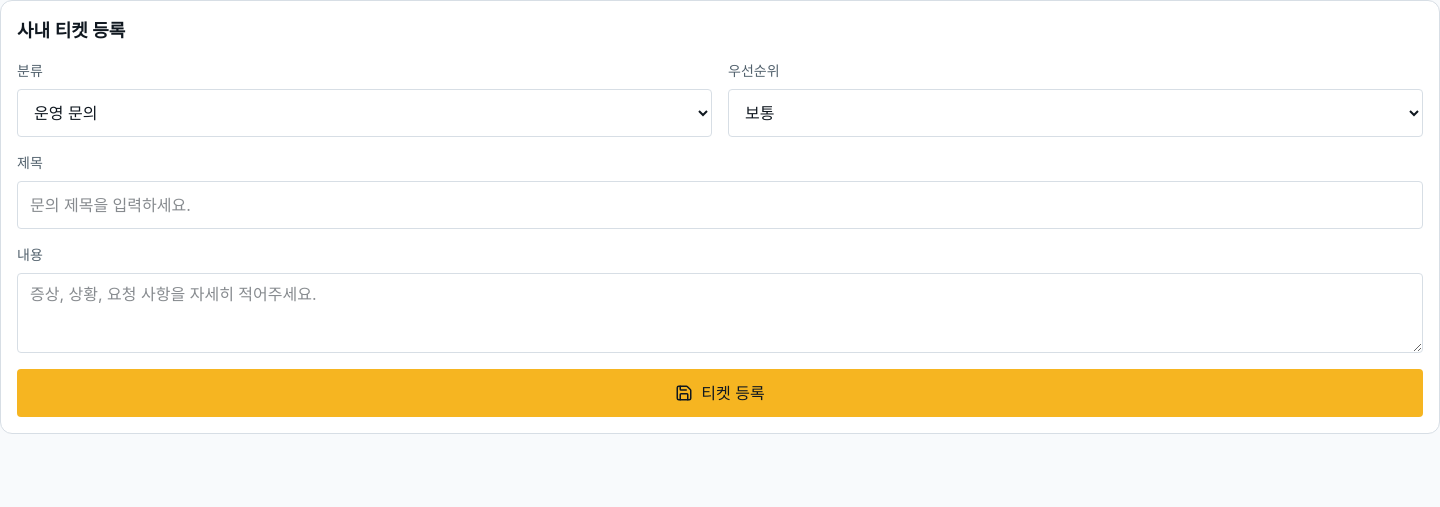
Scenario: CreateTicketForm › validates required fields then submits the typed create request
Click the button "티켓 등록" at (720, 393), box [17, 369, 1423, 417]
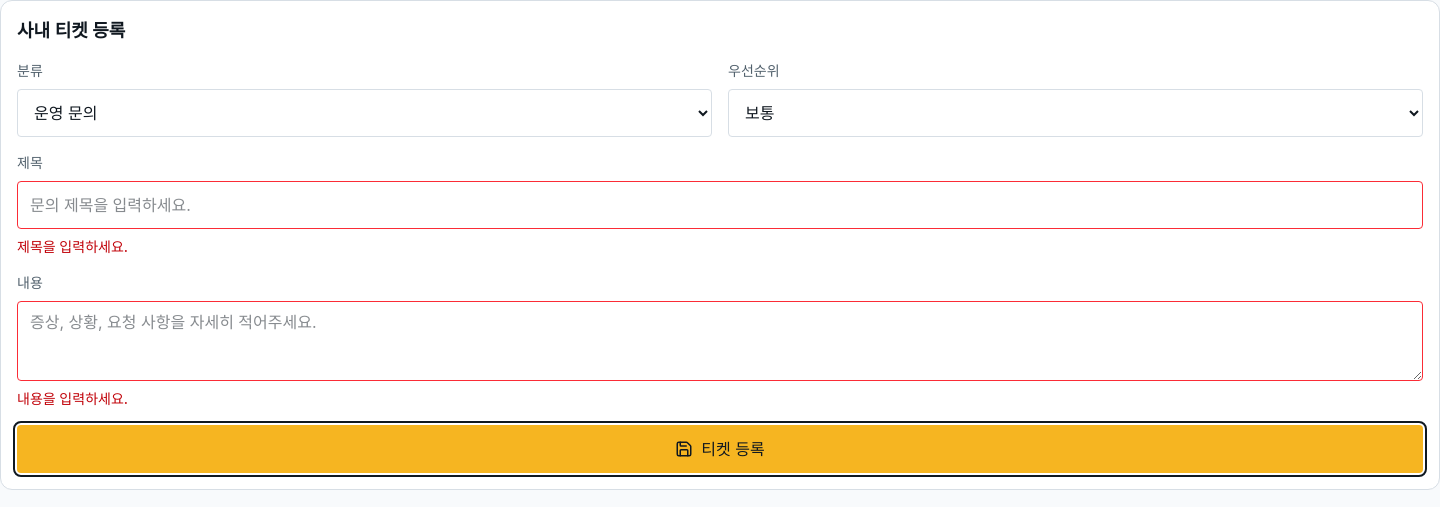
Now the text "제목을 입력하세요." is shown, box [17, 238, 128, 255]
Now the text "내용을 입력하세요." is shown, box [17, 390, 128, 407]
Select "시스템 오류" in the dropdown labelled "분류" at (364, 113), box [17, 89, 712, 137]
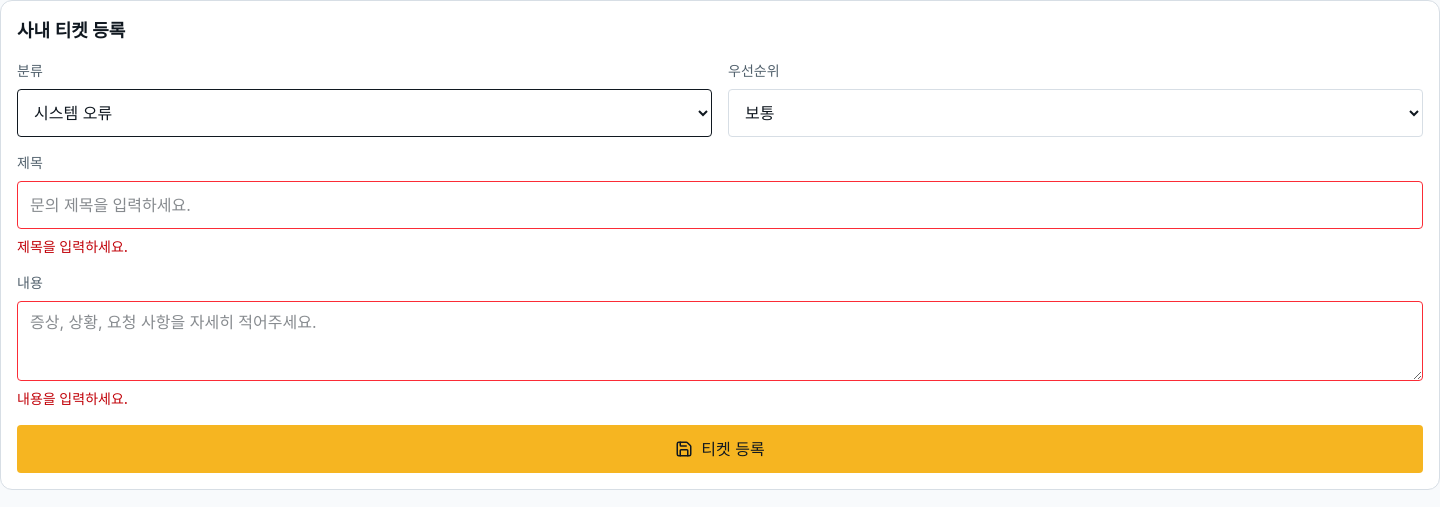
Select "긴급" in the dropdown labelled "우선순위" at (1076, 113), box [728, 89, 1423, 137]
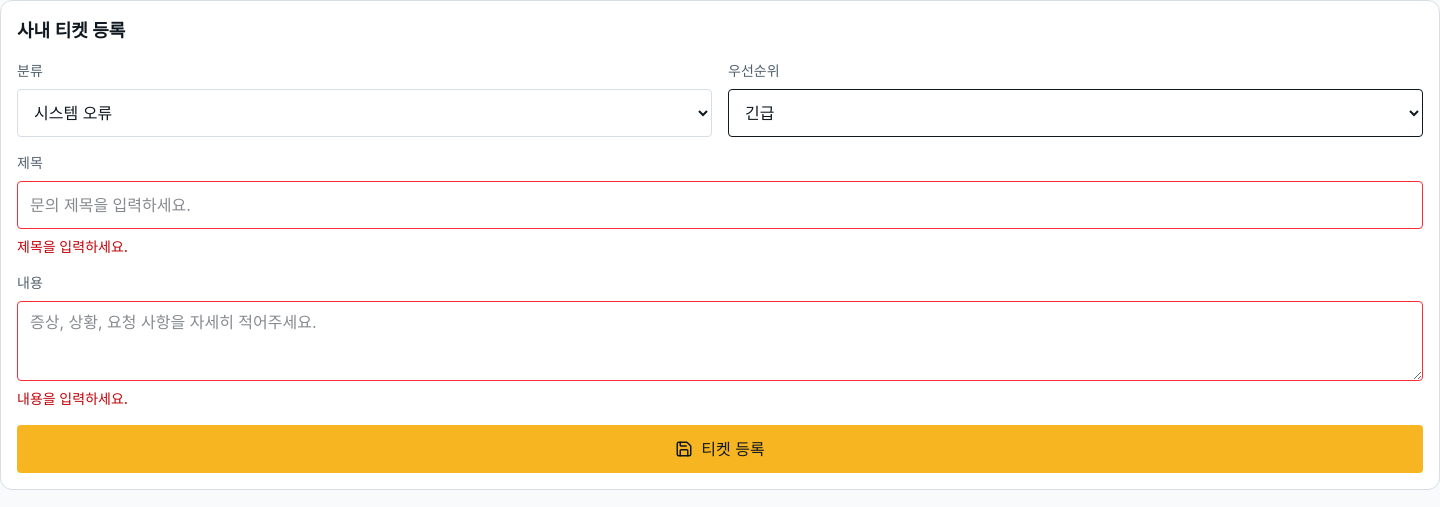
Type "로그인 오류" into the field labelled "제목" at (720, 205), box [17, 181, 1423, 229]
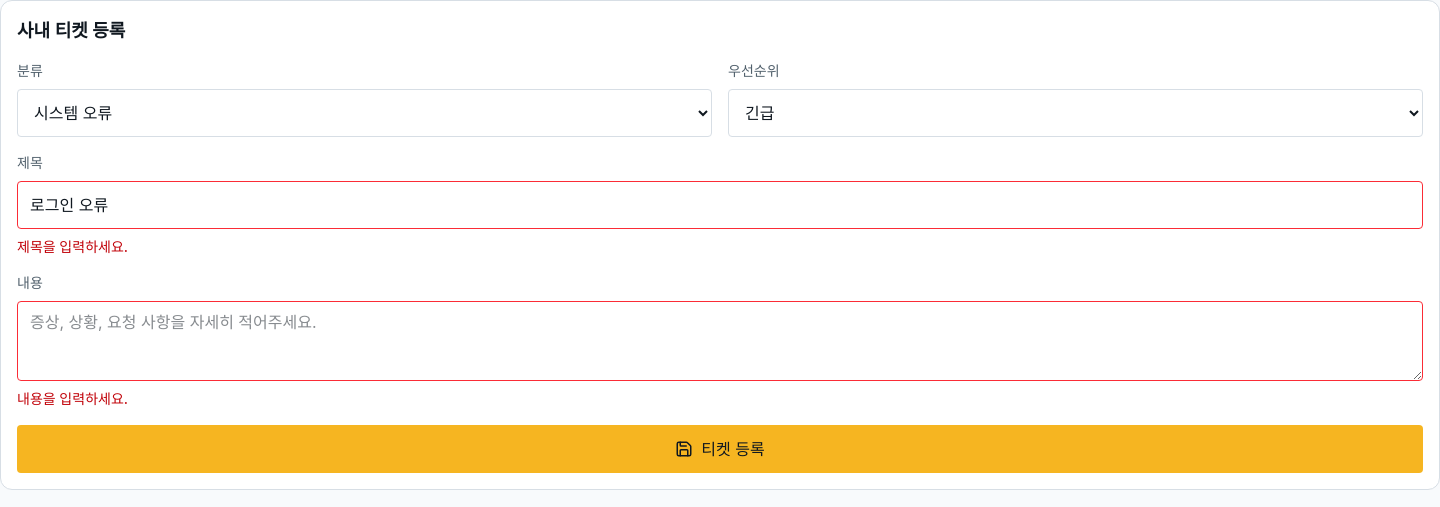
Type "관리자 계정 로그인이 안 됩니다." into the text box labelled "내용" at (720, 341), box [17, 301, 1423, 381]
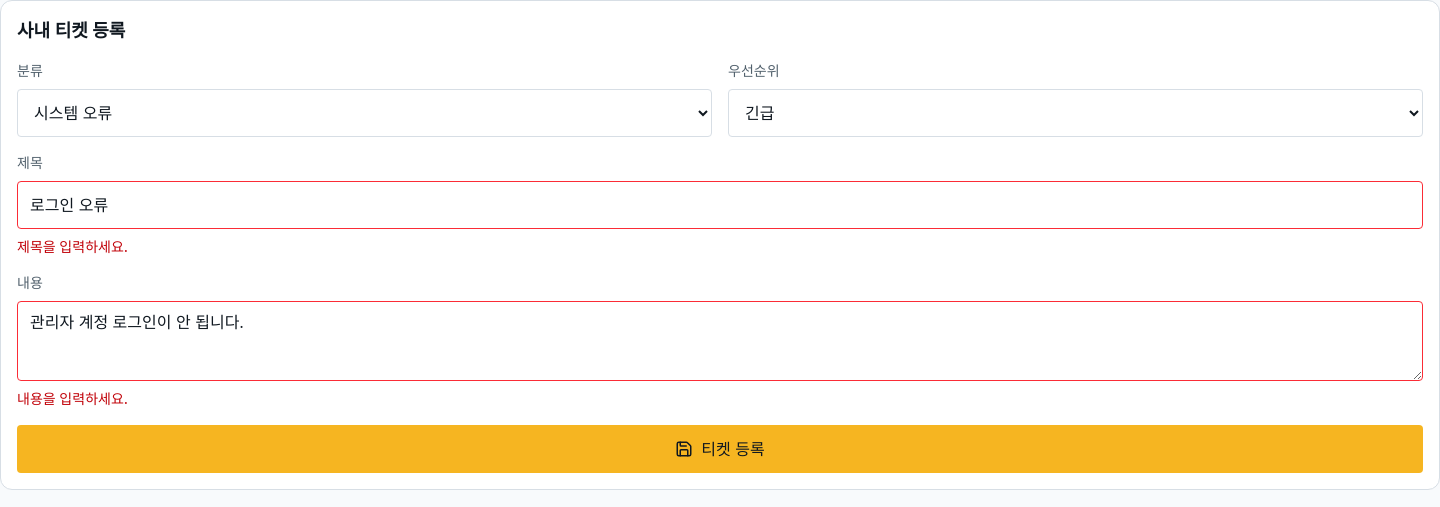
Click the button "티켓 등록" at (720, 449), box [17, 425, 1423, 473]
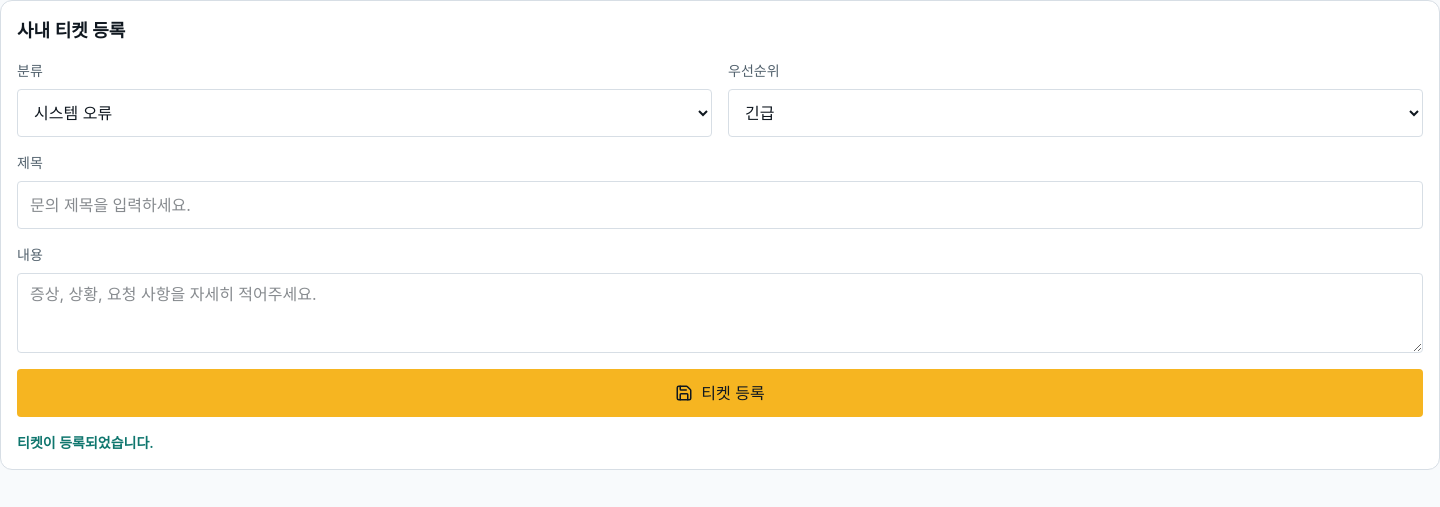
Now the text "티켓이 등록되었습니다." is shown, box [17, 434, 154, 451]
